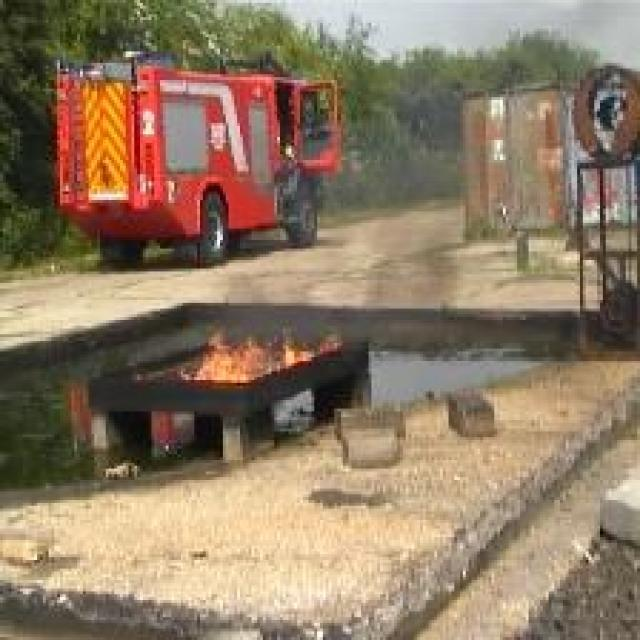Fire: (187, 331, 342, 383)
